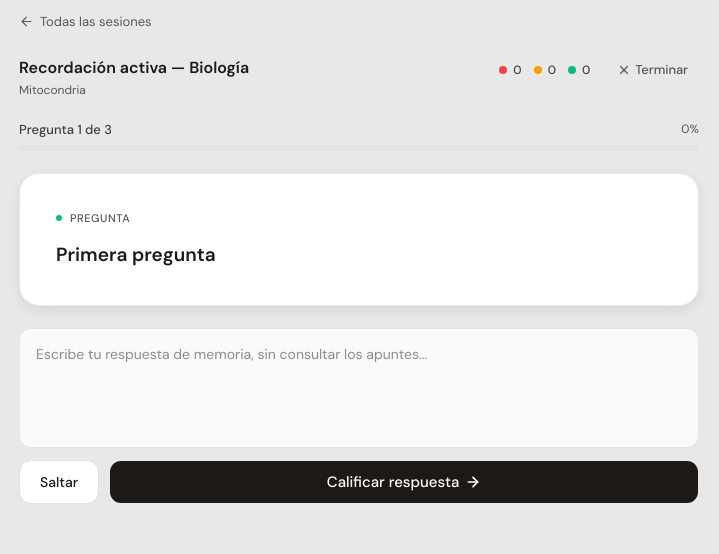
Scenario: ActiveRecallPlayer session flow › gives no feedback between questions
This screenshot has width=719, height=554.
Type "algo" into the text box with test id "answer-textarea" at [359, 388], box [19,328,699,448]
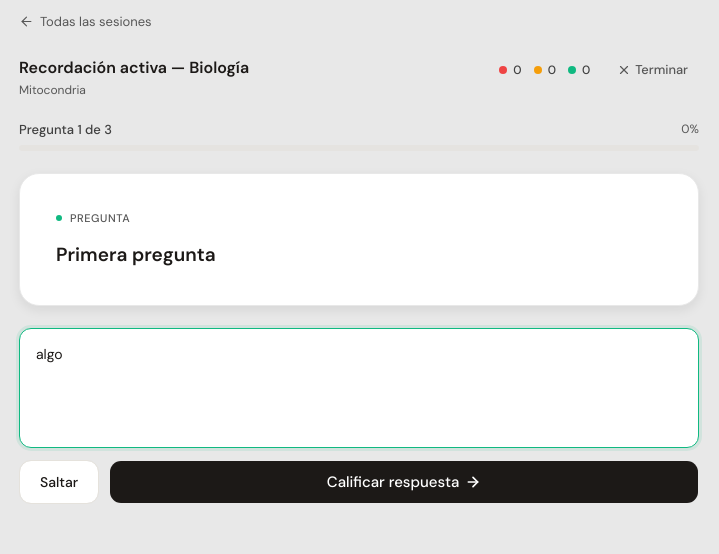
Click the button "Calificar respuesta" at [404, 482], box [109,460,699,504]
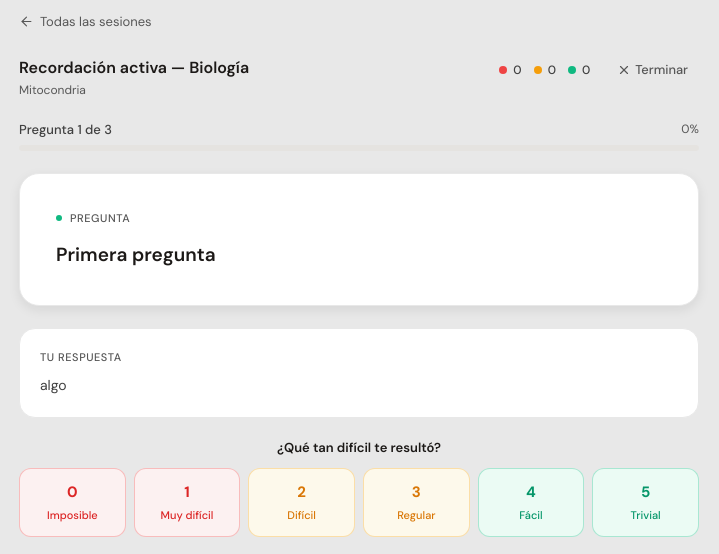
Click the button "3 Regular" at [416, 502], box [363,468,470,537]
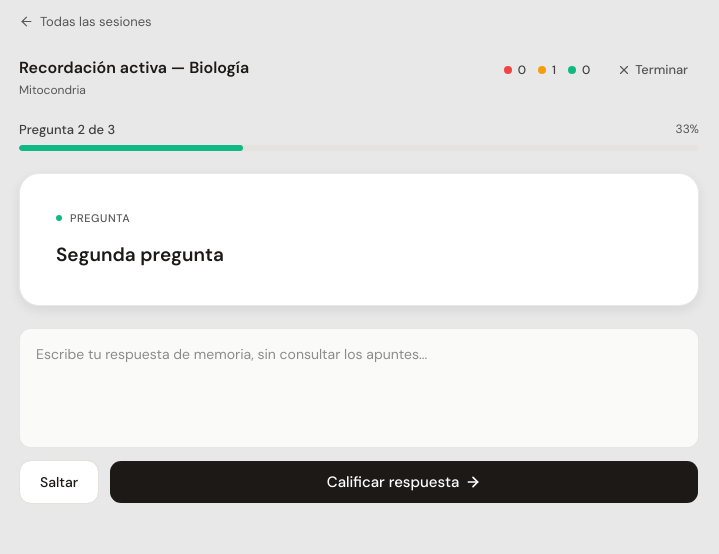
Now the text "Pregunta 2 de 3" is shown, box [19,120,115,139]
